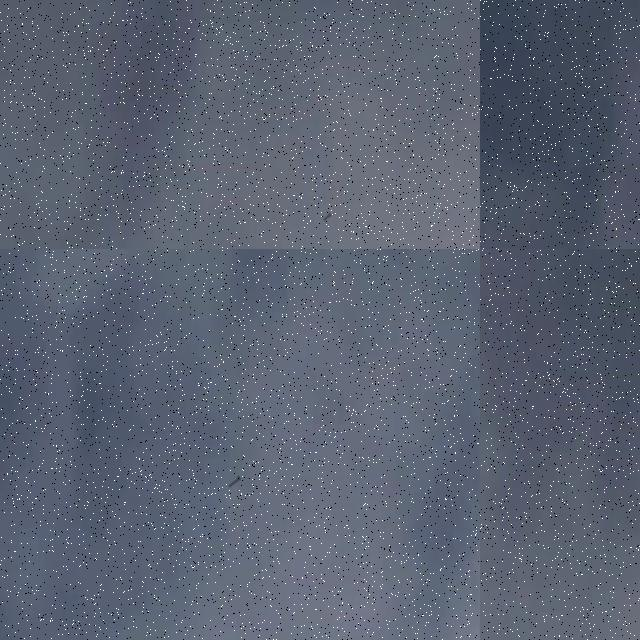Rocket: (229, 475, 240, 488), (322, 212, 332, 220)
